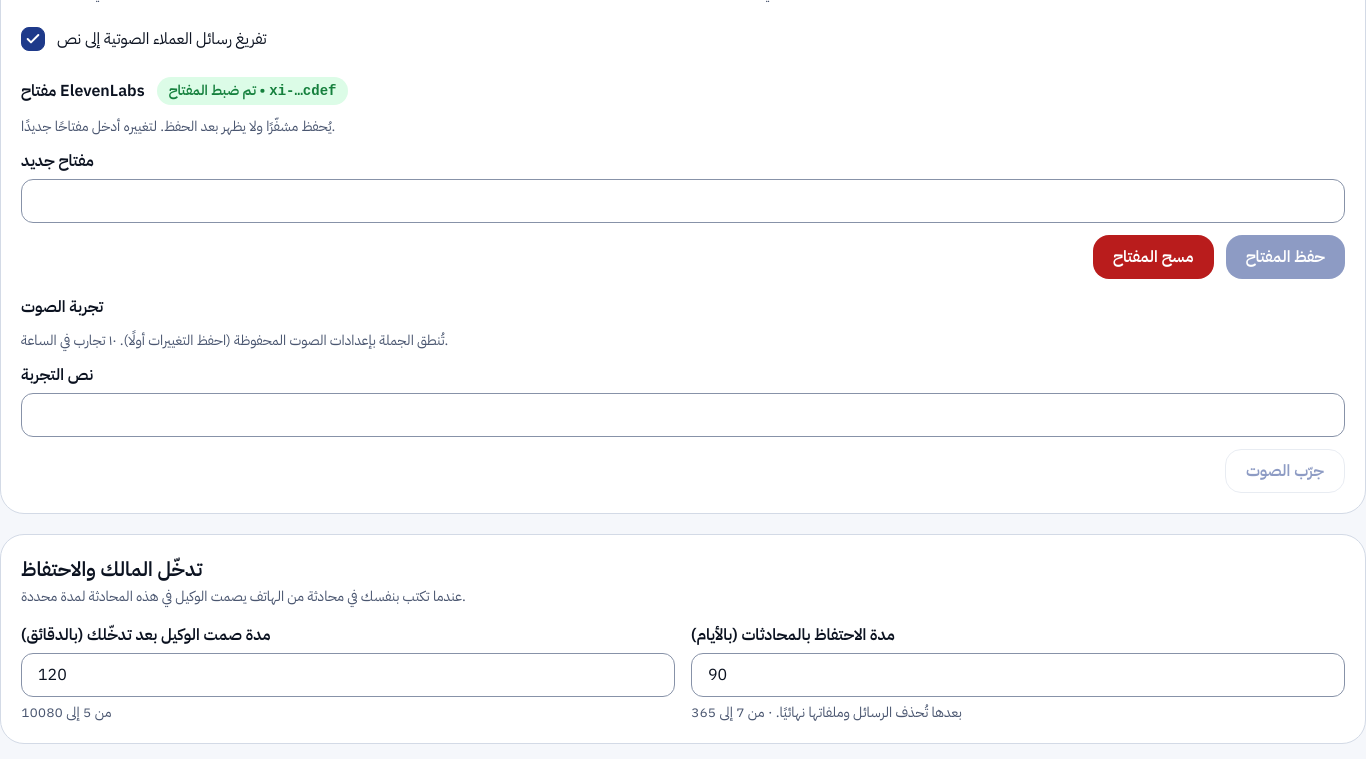
Test: the Settings tab › a failed voice test › shows the reference only for an outage, next to its reason
The image size is (1366, 759).
(page scrolled)
In the field labelled "نص التجربة": (683, 415) [21,393,1345,437], type "hi"
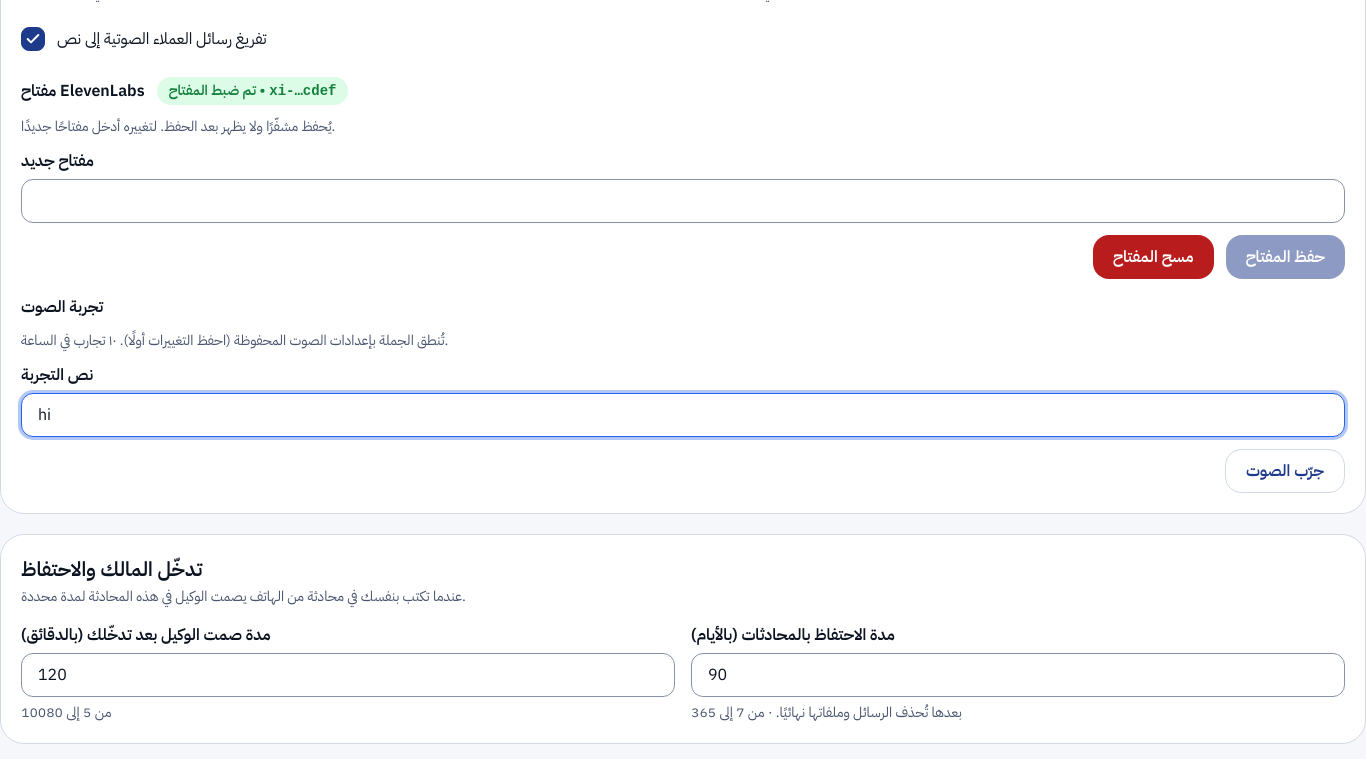
Click the button "جرّب الصوت": (1285, 471) [1225,449,1345,493]
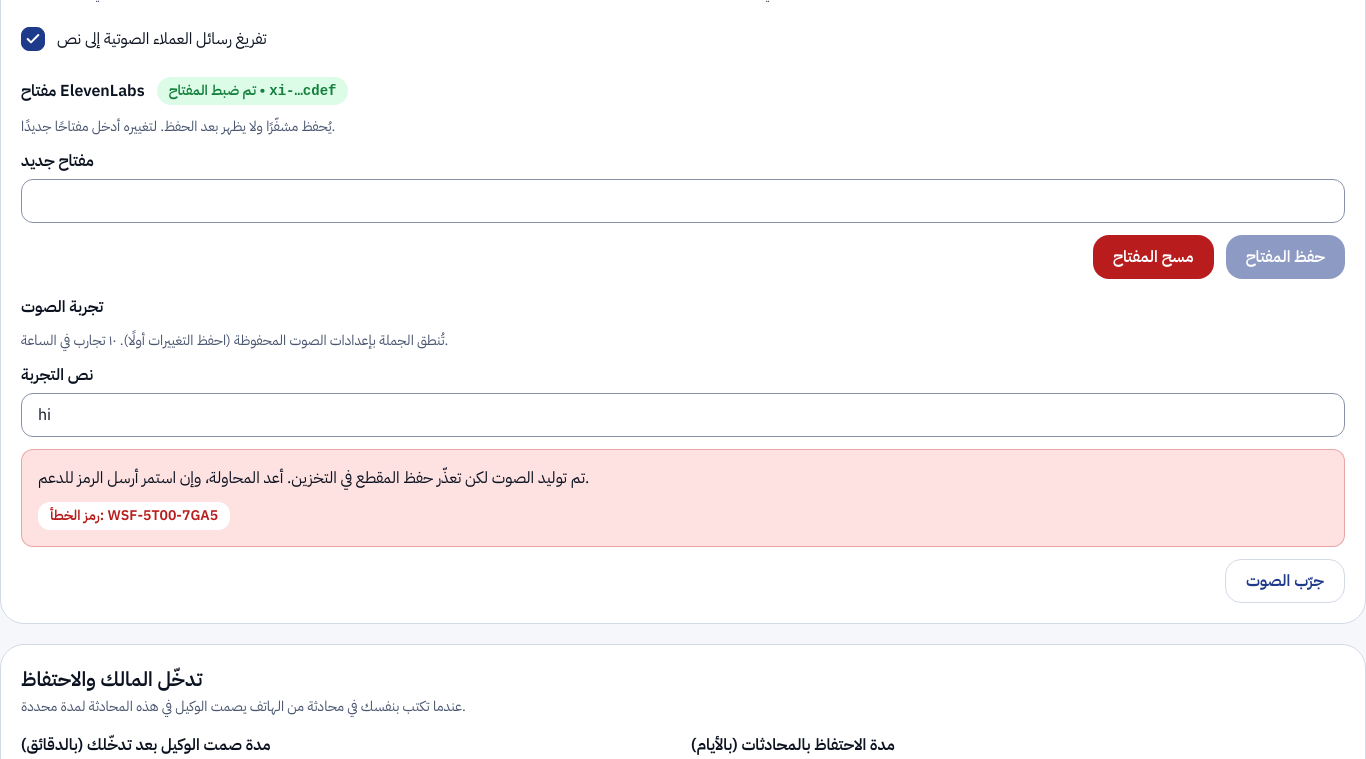
expect the message shows "تم توليد الصوت لكن تعذّر حفظ المقطع في التخزين. أعد المحاولة، وإن استمر أرسل الرمز للدعم.": met, box [38,466,589,490]
expect the message shows "WSF-5T00-7GA5": met, box [50,505,218,526]
